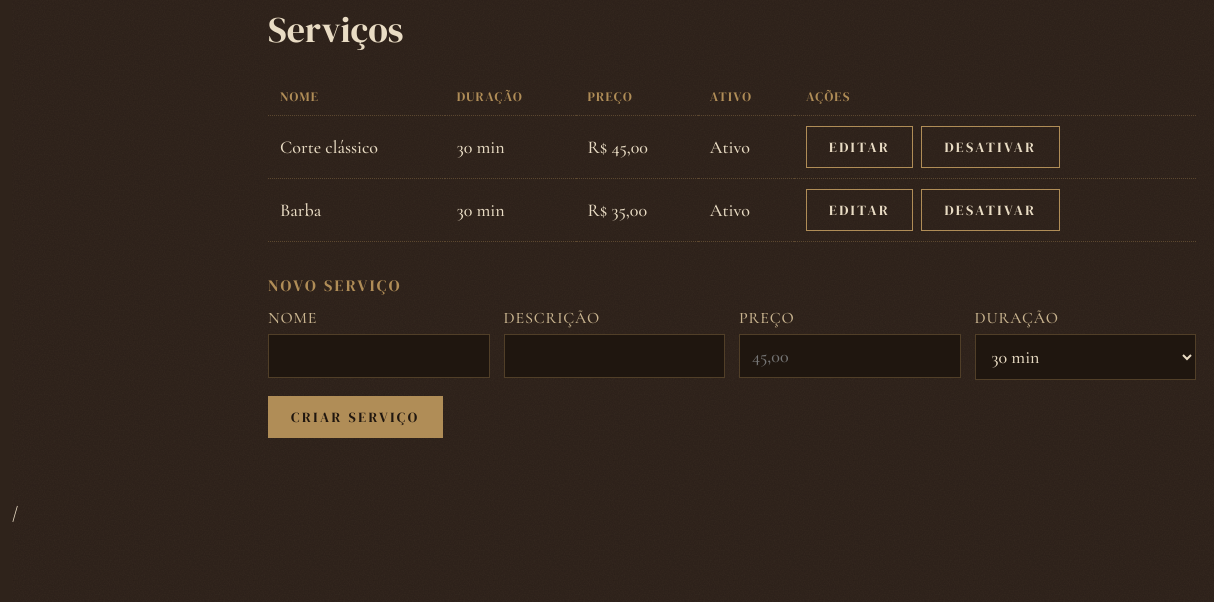
Admin Services › creates service with cents and duration
The width and height of the screenshot is (1214, 602).
Expected: the cell "Corte clássico" is shown, [268, 116, 445, 178]
Type "Pezinho" into the field labelled "Nome" at {"x": 379, "y": 356}, box [268, 334, 490, 378]
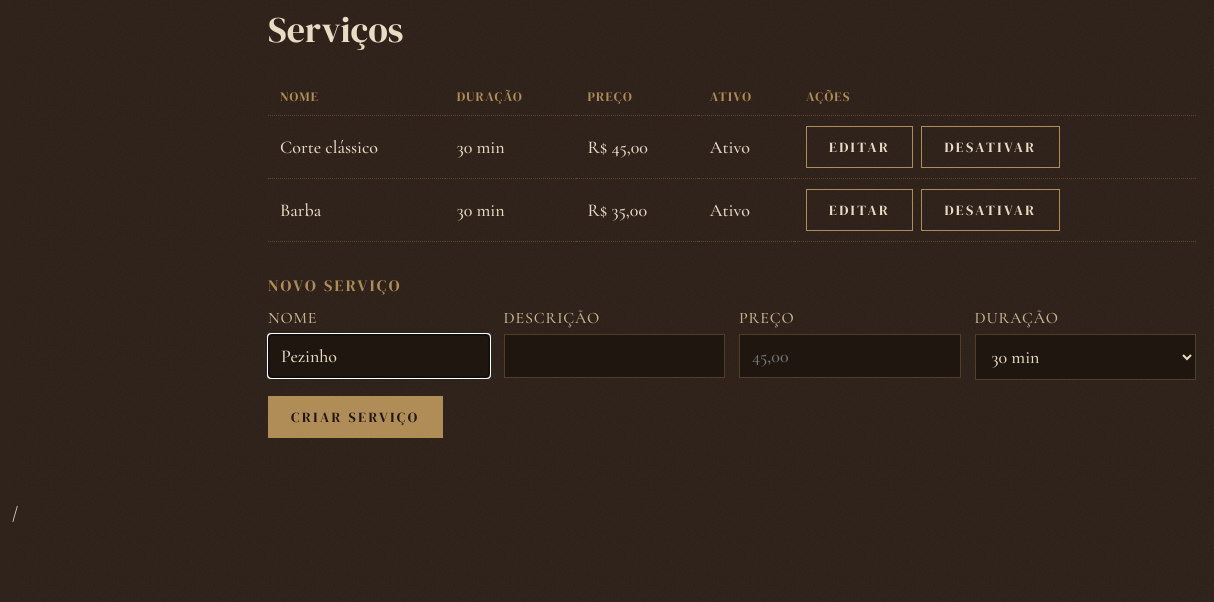
Type "Acabamento" into the field labelled "Descrição" at {"x": 614, "y": 356}, box [504, 334, 725, 378]
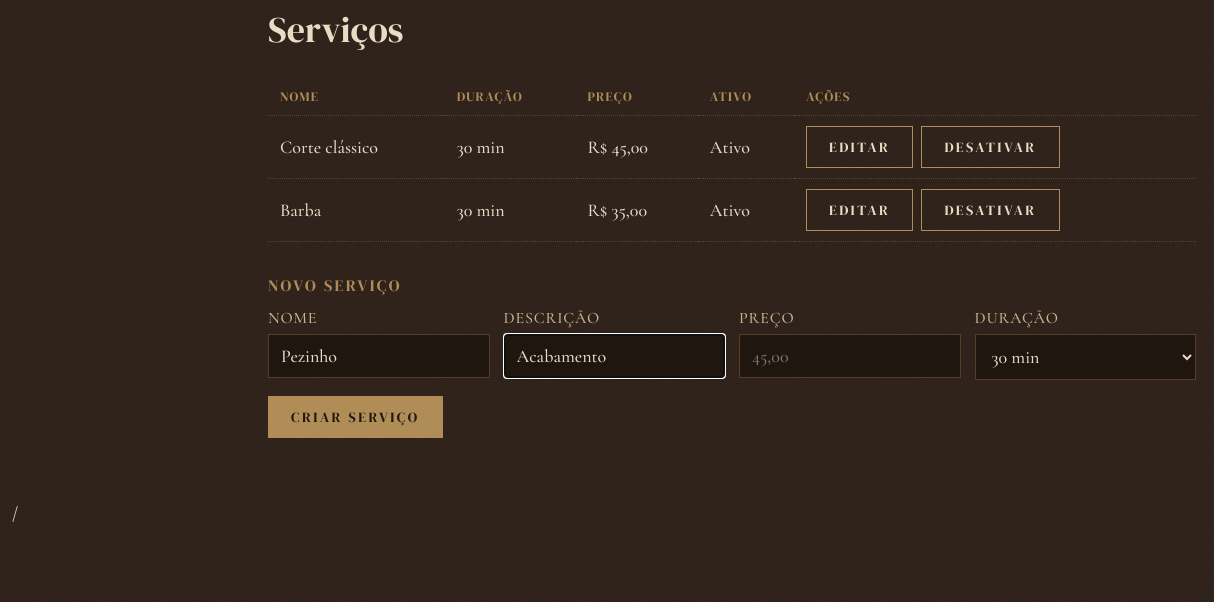
Type "20,00" into the field labelled "Preço" at {"x": 850, "y": 356}, box [739, 334, 960, 378]
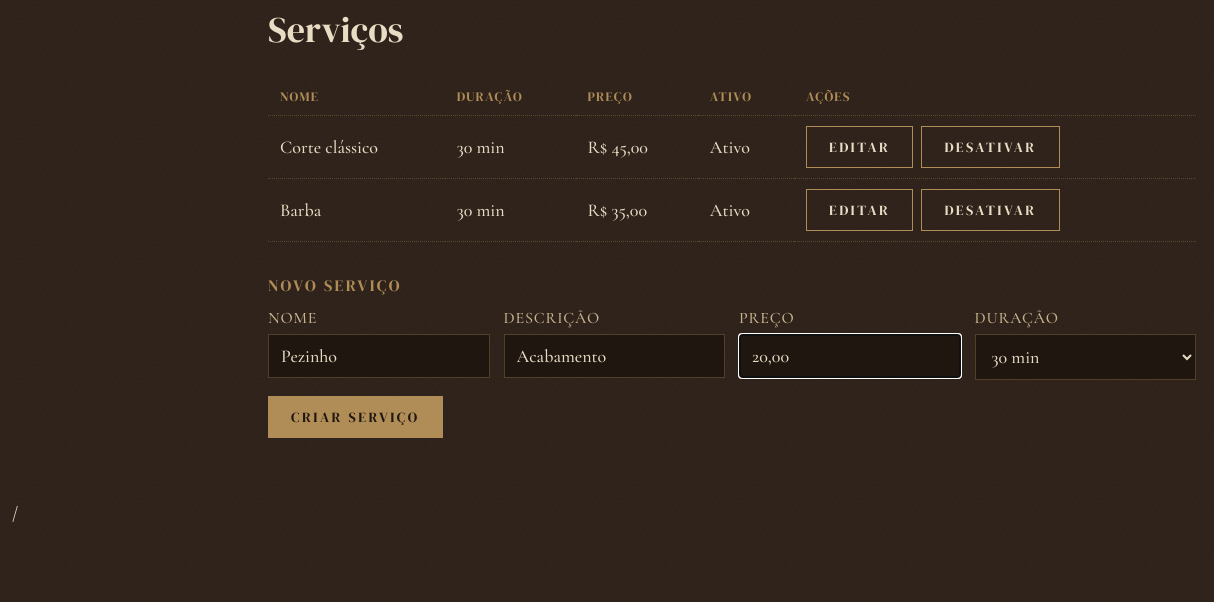
Select "15 min" in the dropdown labelled "Duração" at {"x": 1085, "y": 357}, box [974, 334, 1196, 380]
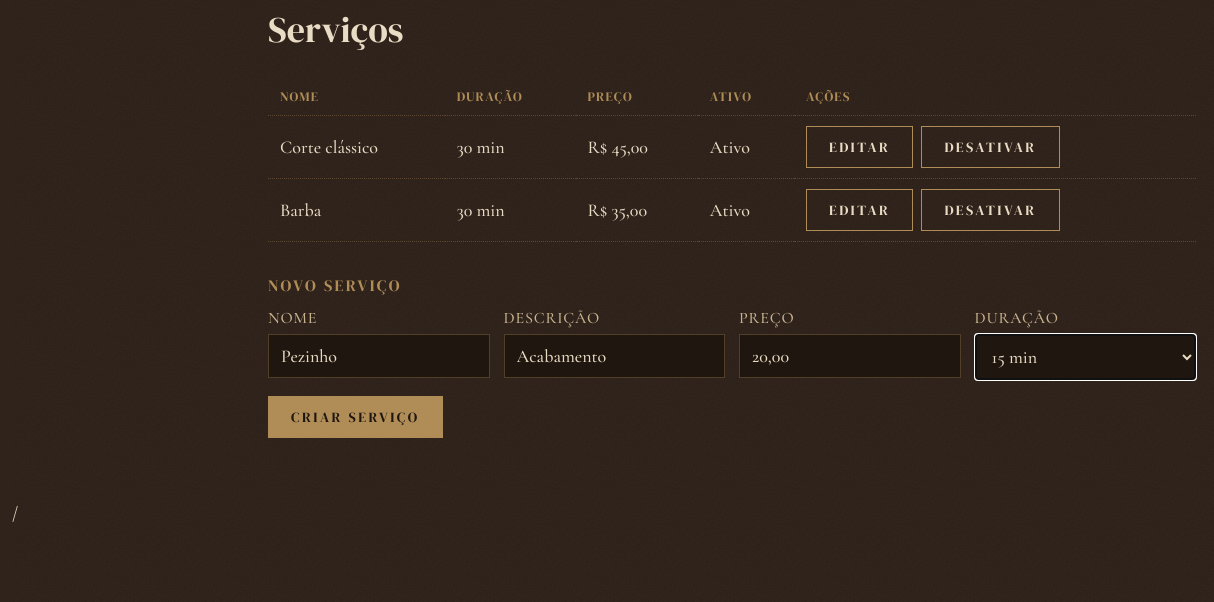
Click the button "Criar serviço" at {"x": 355, "y": 417}, box [268, 396, 443, 438]
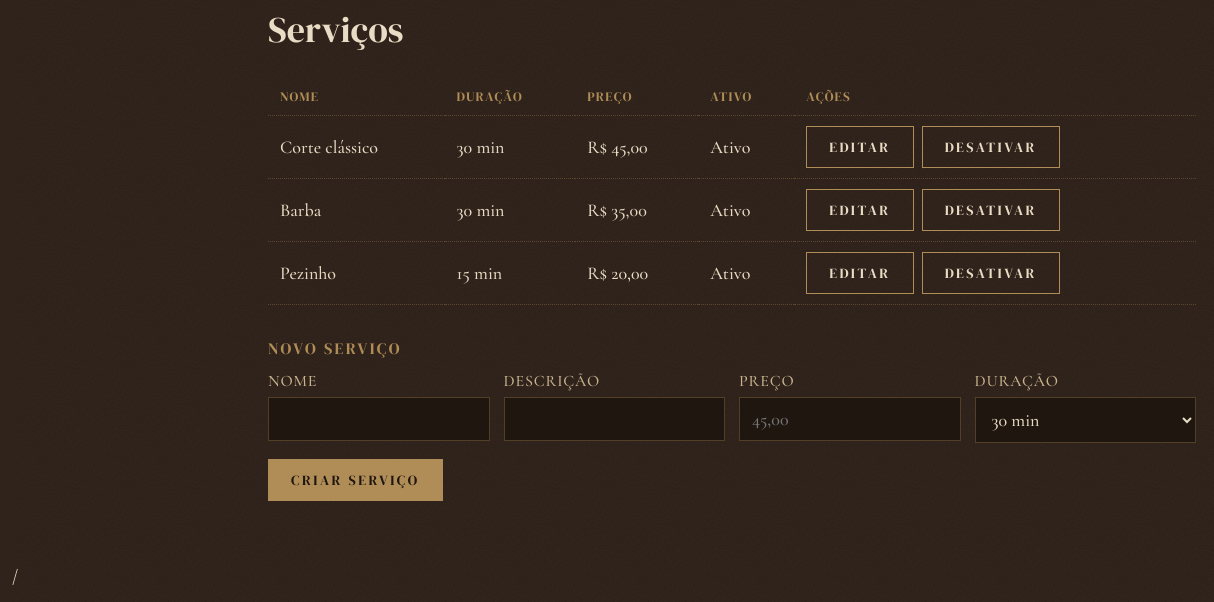
Expected: the cell "Pezinho" is shown, [268, 242, 444, 304]
